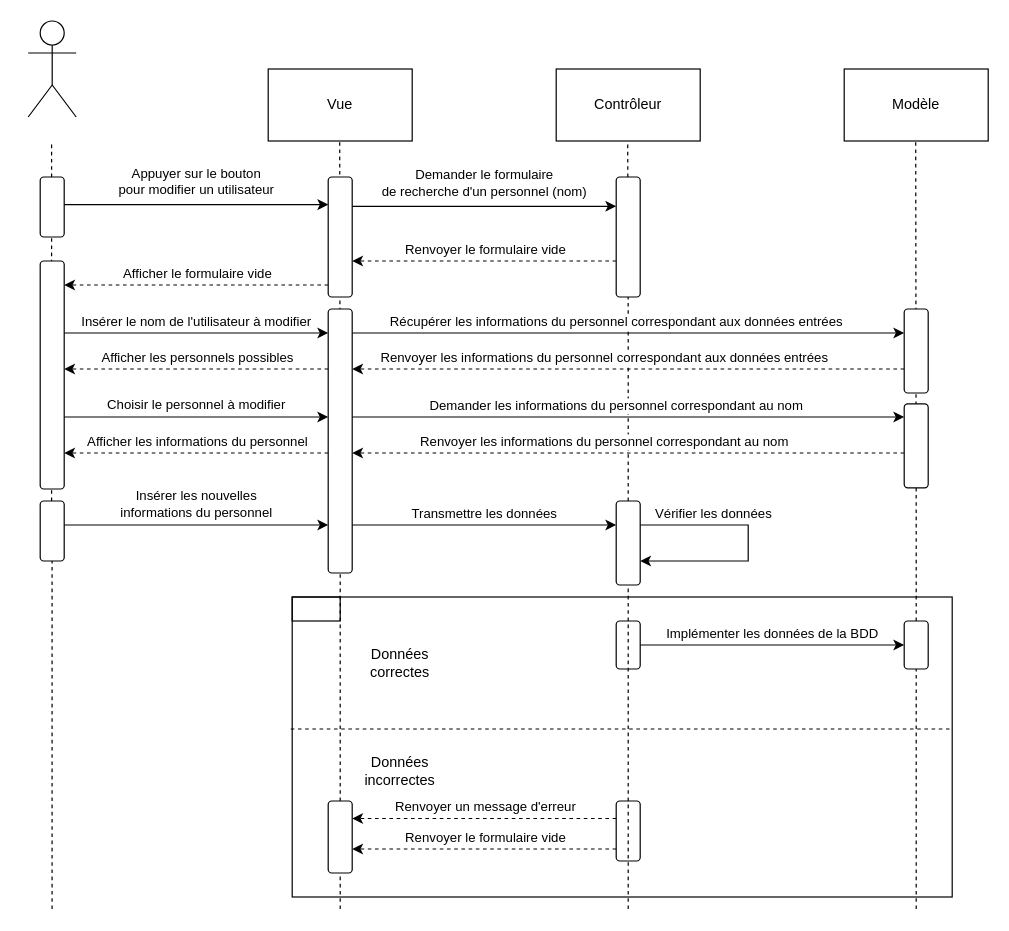
This 1009x931 diagram has some shape labels left out. The shapes that lost their labels are listed below. From the top down, each one's centre as x and y in pixels, then its label:
At (51,68): "Utilisateur".
At (315,608): "alt".
